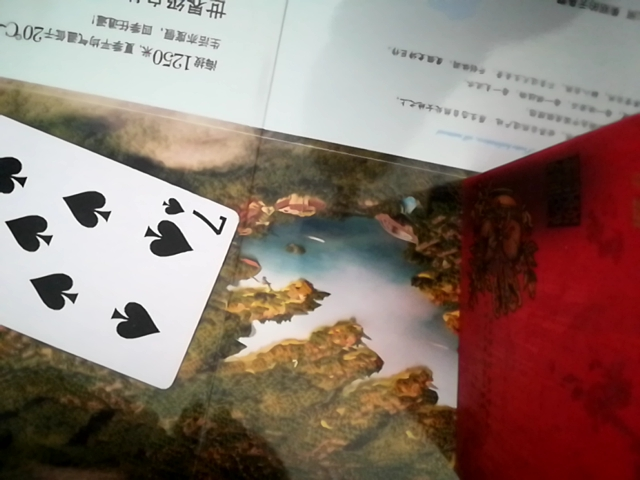ht 7: (0, 111, 245, 396)
